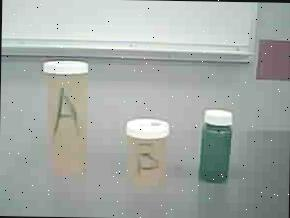Bottle A: (36, 57, 104, 177)
Bottle B: (122, 113, 173, 194)
Bottle C: (186, 104, 250, 189)
